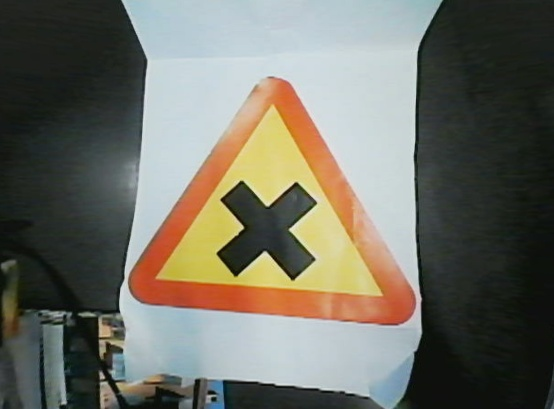junction: (133, 66, 422, 327)
